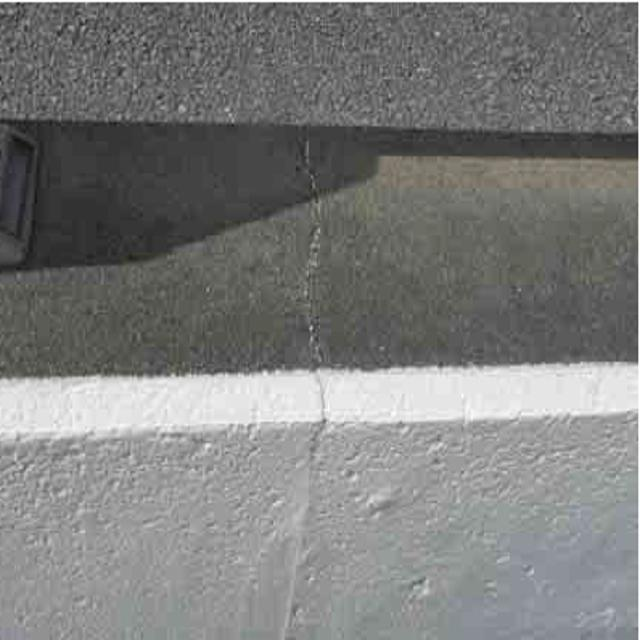crack: (284, 167, 360, 479)
